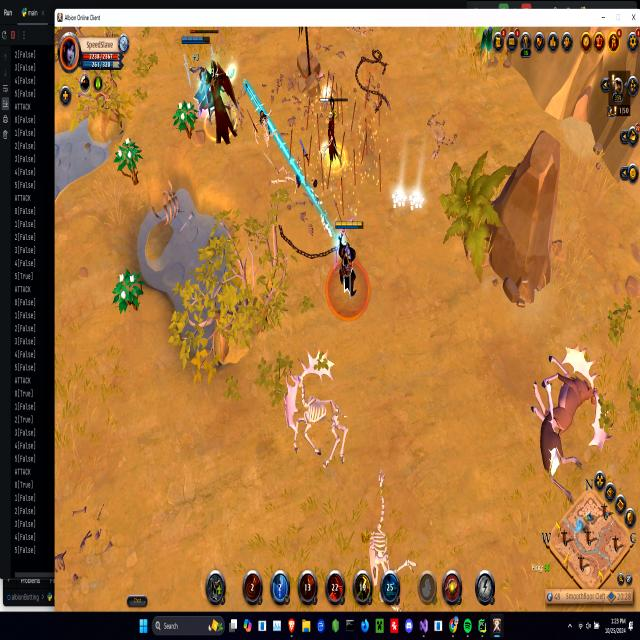hide: (112, 264, 143, 318), (116, 135, 141, 183), (173, 99, 194, 138), (478, 26, 496, 58)
mob: (525, 342, 613, 498)
ore: (186, 27, 244, 151), (315, 88, 351, 177)
red: (179, 34, 221, 119), (332, 218, 363, 299)
silver: (324, 248, 372, 320)
stone: (408, 189, 428, 215), (391, 186, 408, 209)
